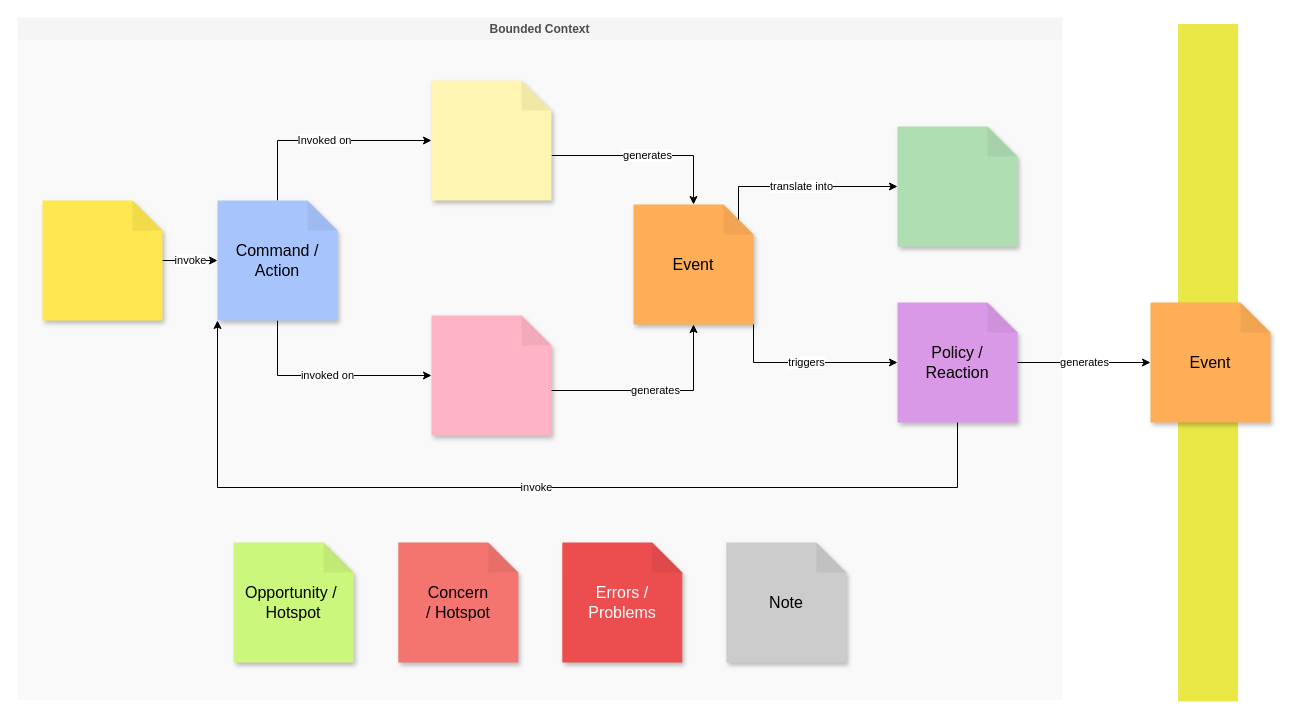
Image size: 1293x718. Some labels were removed from this diagram. Here are the shapes that lost their labels. From the top down, the centre of each, then its label:
At point (492, 141): "Aggregate".
At point (958, 187): "Read/View Model".
At point (103, 261): "Actor".
At point (492, 376): "Externam System".
